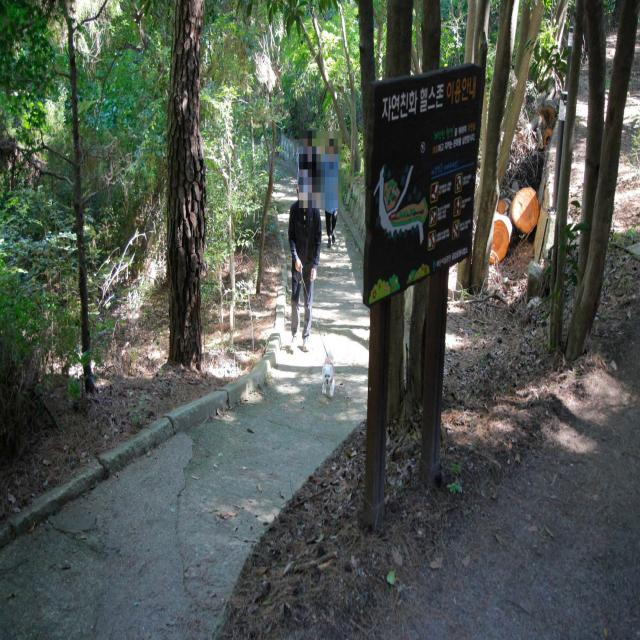Leashed_Dog: (290, 260, 336, 398)
